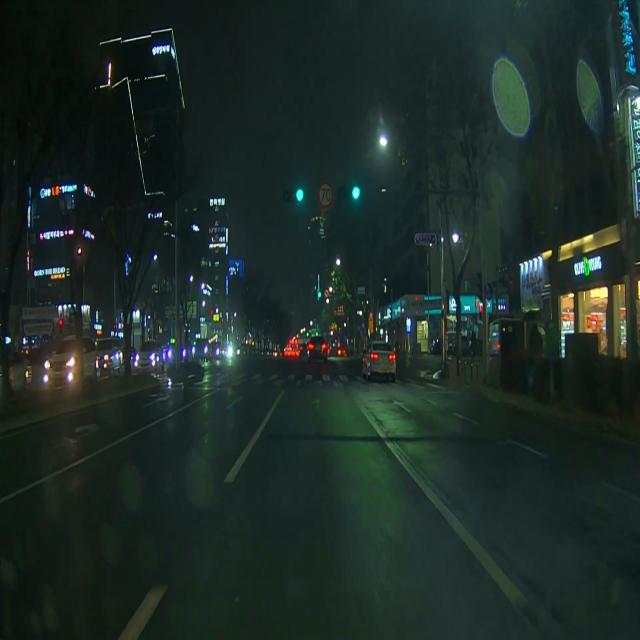Green Light: (295, 188, 304, 202), (352, 185, 360, 200)
